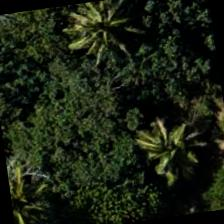Kelapa_Sawit: (116, 94, 218, 196), (5, 153, 65, 223)
